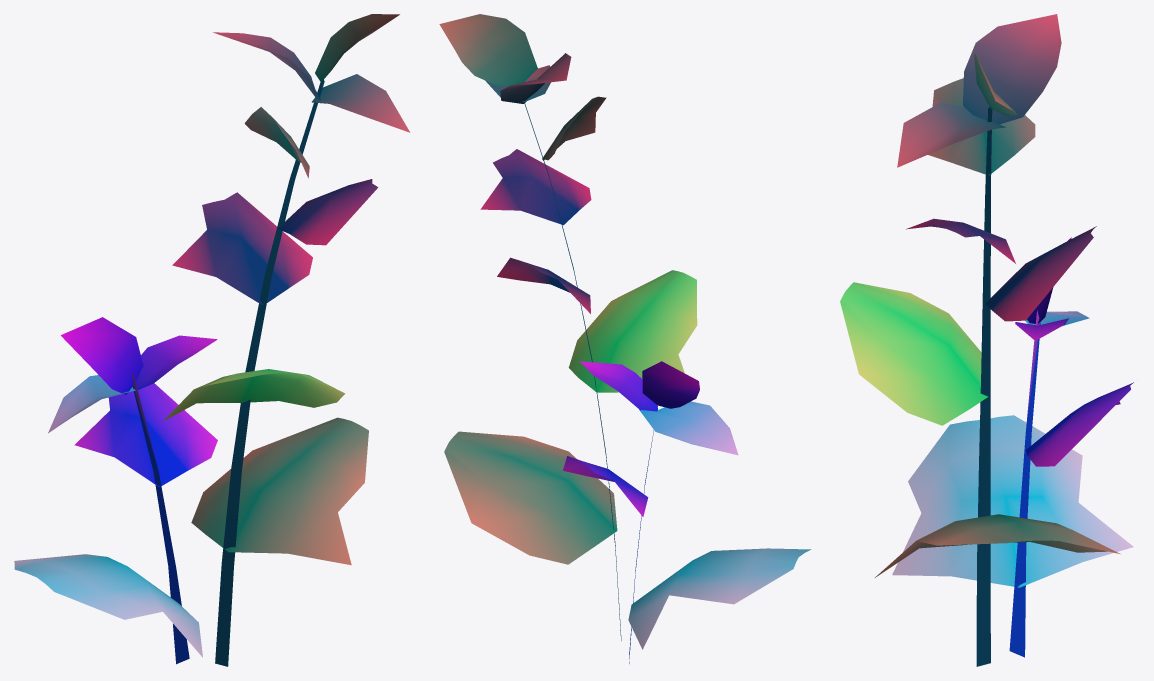
Rendered from Raspberry_wf0oefeja_High_wf0oefeja_VarB_LOD2.fbx.
3 renders of one model, left to right at view 1: azimuth 30°, elevation 25°; view 2: azimuth 150°, elevation 25°; view 3: azimuth 270°, elevation 25°, orthographic. The views are drawn at different scales.
Parts seen in each view (by area): view 1: _qe96_VarB_LOD3; view 2: _qe96_VarB_LOD3; view 3: _qe96_VarB_LOD3.
Boxes of the visible parts, bbox=[...] form: _qe96_VarB_LOD3: bbox=[14, 14, 410, 666]; _qe96_VarB_LOD3: bbox=[439, 14, 811, 663]; _qe96_VarB_LOD3: bbox=[840, 14, 1133, 666].
Size of the model in its own units: 20.47 by 32.27 by 12.8.
